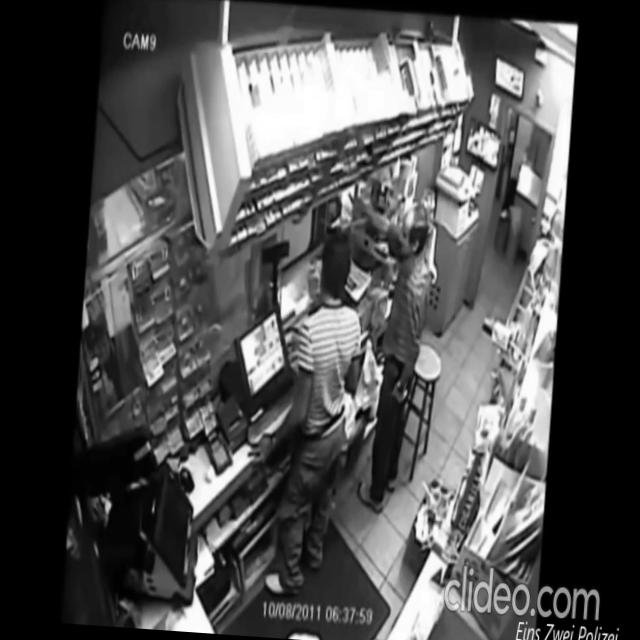person: (236, 218, 371, 602), (355, 196, 438, 520)
